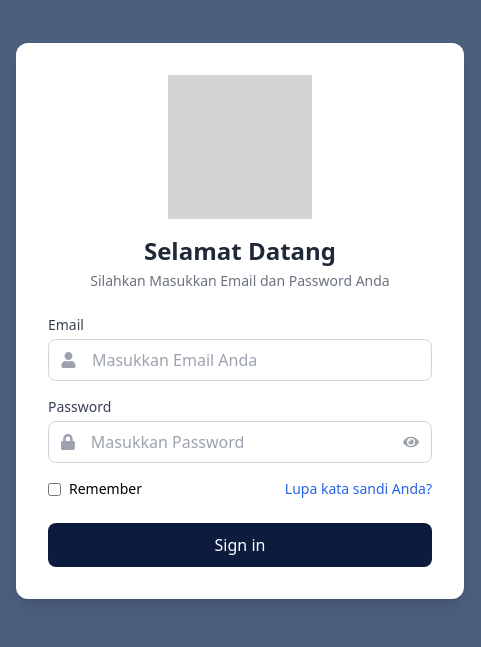
it: Login Component › shows error when fields are empty
The width and height of the screenshot is (481, 647).
Click the button "Sign in" at (240, 545), box x1=48 y1=523 x2=432 y2=567
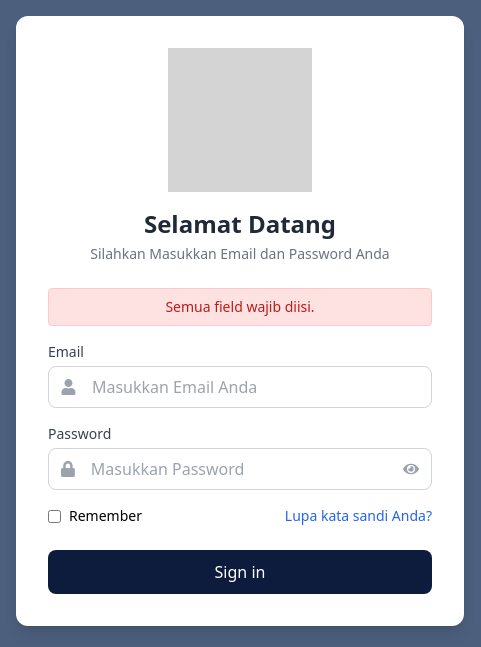
Check: the text "Semua field wajib diisi." is shown, box x1=48 y1=288 x2=432 y2=326
